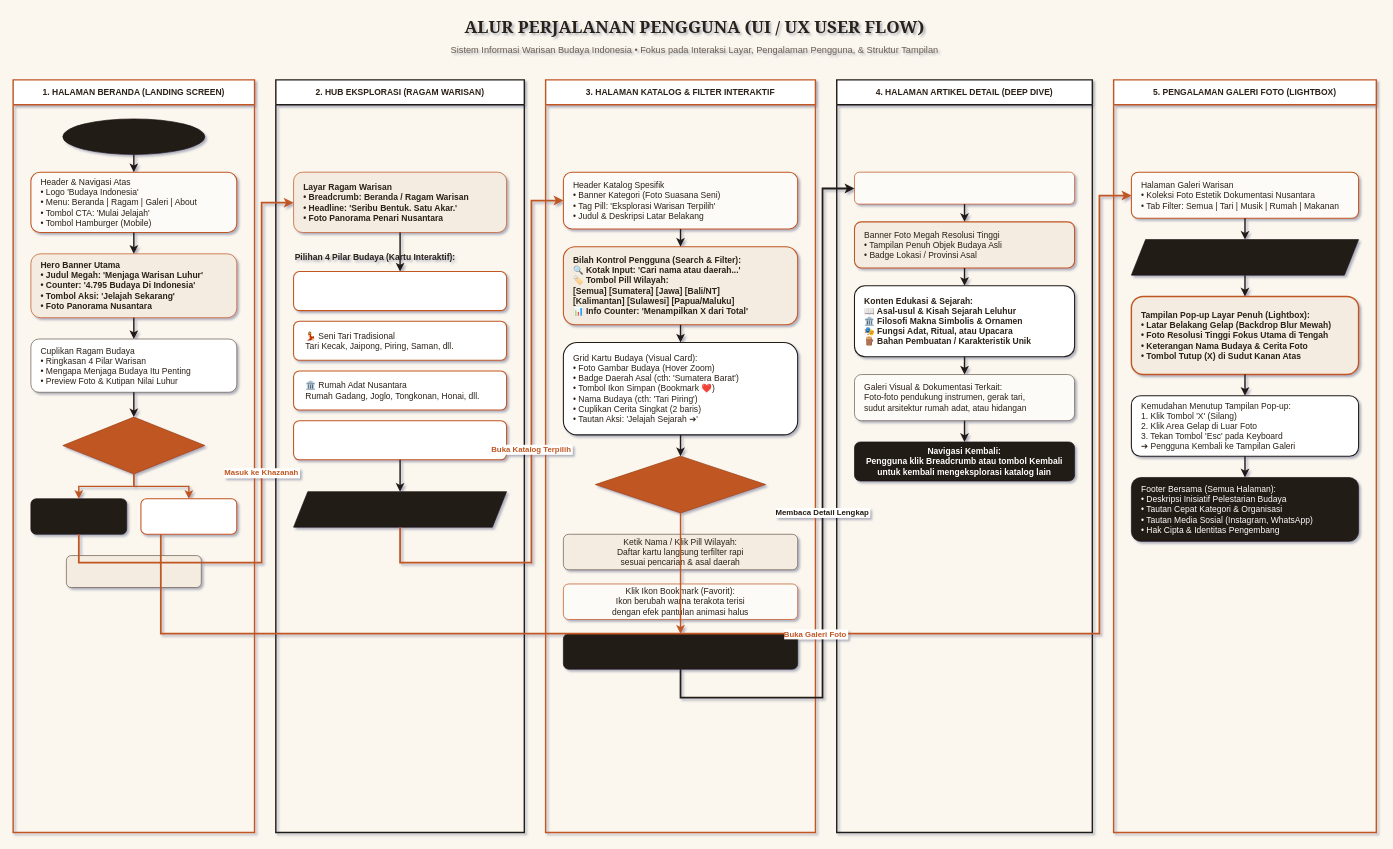
This 1393x849 diagram has some shape labels left out. Here are the shapes that lost their labels. From the top down, the centre of each, then its label:
At point 133,136: "Pengguna Membuka Web (Tampilan Bersih & Hangat)".
At point 964,187: "Breadcrumb Navigasi: Beranda / Ragam / [Kategori] / [Nama Budaya]".
At point 1245,257: "Pengguna Mengeklik Salah Satu Foto pada Galeri Masonry / Grid".
At point 400,291: "🎵 Seni Musik & Instrumen Gamelan, Angklung, Sasando, Tifa, dll.".
At point 133,445: "Pengguna Memilih Langkah?".
At point 400,440: "🍲 Kuliner Tradisional Rendang, Gudeg, Papeda, Coto Makassar, dll.".
At point 680,484: "Pengguna Mau Melakukan Apa?".
At point 78,516: "Klik 'Ragam Warisan' atau 'Mulai Jelajah'".
At point 188,516: "Klik Menu 'Galeri'".
At point 400,509: "Pengguna Memilih Salah Satu Pilar Budaya".
At point 133,571: "Klik Menu 'About' (Tentang & Kontak)".
At point 680,651: "Klik 'Jelajah Sejarah' pada Kartu untuk Membaca Informasi Lengkap".
